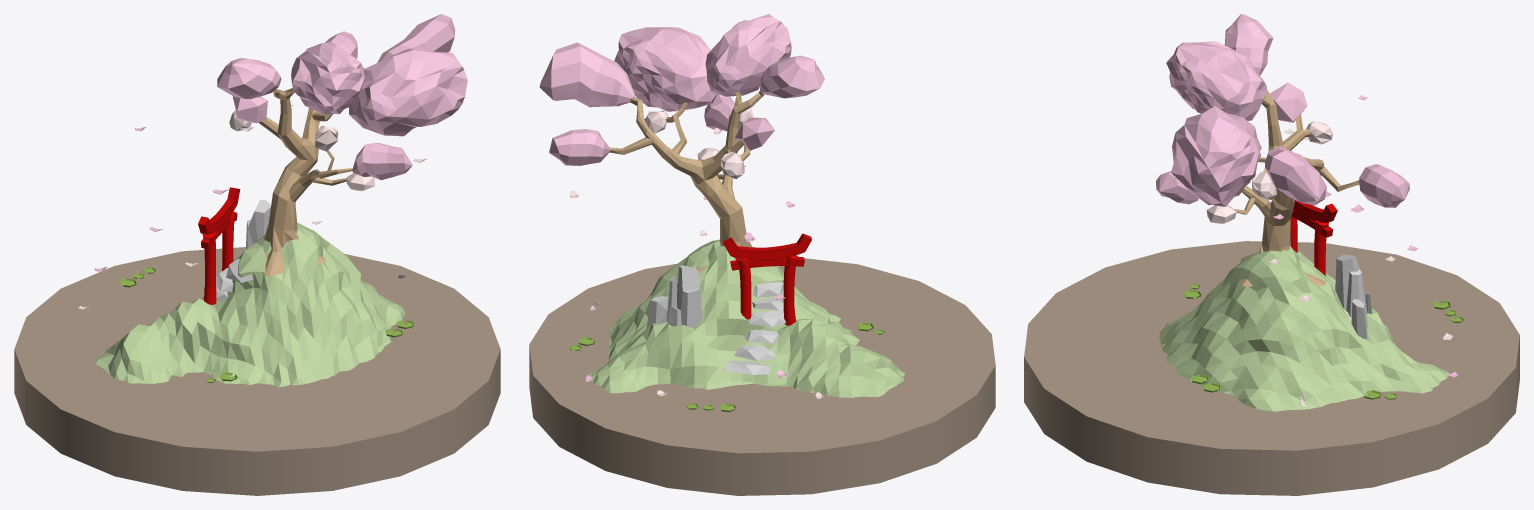
3 renders of one model, left to right at view 1: azimuth 30°, elevation 25°; view 2: azimuth 150°, elevation 25°; view 3: azimuth 270°, elevation 25°, orthographic. The views are drawn at different scales.
Visible parts, largest first — view 1: LowPolyWaterv2, Terrain_Mountain_Grass_01, Cube, Vegetation_Modular_Tree_Foliage_Clump_Large_05__1_, Vegetation_Tree_Trunk_05, Vegetation_Modular_Tree_Foliage_Clump_Large_05, Prop_Archway_Timber_Asian_Elven_01, Vegetation_Modular_Tree_Foliage_Clump_Small_11, Vegetation_Modular_Tree_Foliage_Clump_Small_12, Vegetation_Modular_Tree_Foliage_Clump_Large_04, Rock_Large_17, Vegetation_Modular_Tree_Foliage_Clump_Small_06; view 2: LowPolyWaterv2, Terrain_Mountain_Grass_01, Cube, Vegetation_Modular_Tree_Foliage_Clump_Large_05__1_, Vegetation_Tree_Trunk_05, Vegetation_Modular_Tree_Foliage_Clump_Large_05, Vegetation_Modular_Tree_Foliage_Clump_Large_04, Prop_Archway_Timber_Asian_Elven_01, Vegetation_Modular_Tree_Foliage_Clump_Small_11, Rock_Large_17, Vegetation_Modular_Tree_Foliage_Clump_Large_03, Vegetation_Modular_Tree_Foliage_Clump_Small_06 (+6 smaller); view 3: LowPolyWaterv2, Terrain_Mountain_Grass_01, Cube, Vegetation_Modular_Tree_Foliage_Clump_Large_05__1_, Vegetation_Modular_Tree_Foliage_Clump_Large_05, Vegetation_Tree_Trunk_05, Vegetation_Modular_Tree_Foliage_Clump_Large_04, Vegetation_Modular_Tree_Foliage_Clump_Small_11, Prop_Archway_Timber_Asian_Elven_01, Vegetation_Modular_Tree_Foliage_Clump_Large_03, Rock_Large_17, Vegetation_Modular_Tree_Foliage_Clump_Small_06 (+1 smaller).
Boxes of the visible parts, left/top/right/bottom form: LowPolyWaterv2: left=14, top=247, right=500, bottom=468; Terrain_Mountain_Grass_01: left=94, top=223, right=405, bottom=387; Cube: left=14, top=360, right=500, bottom=495; Vegetation_Modular_Tree_Foliage_Clump_Large_05__1_: left=349, top=47, right=467, bottom=136; Vegetation_Tree_Trunk_05: left=258, top=68, right=364, bottom=276; Vegetation_Modular_Tree_Foliage_Clump_Large_05: left=291, top=42, right=365, bottom=114; Prop_Archway_Timber_Asian_Elven_01: left=198, top=187, right=240, bottom=304; Vegetation_Modular_Tree_Foliage_Clump_Small_11: left=217, top=58, right=281, bottom=99; Vegetation_Modular_Tree_Foliage_Clump_Small_12: left=352, top=142, right=412, bottom=180; Vegetation_Modular_Tree_Foliage_Clump_Large_04: left=377, top=14, right=455, bottom=62; Rock_Large_17: left=246, top=199, right=271, bottom=249; Vegetation_Modular_Tree_Foliage_Clump_Small_06: left=233, top=96, right=267, bottom=123; LowPolyWaterv2: left=529, top=258, right=995, bottom=469; Terrain_Mountain_Grass_01: left=586, top=239, right=904, bottom=397; Cube: left=529, top=357, right=995, bottom=495; Vegetation_Modular_Tree_Foliage_Clump_Large_05__1_: left=614, top=27, right=717, bottom=111; Vegetation_Tree_Trunk_05: left=609, top=91, right=778, bottom=273; Vegetation_Modular_Tree_Foliage_Clump_Large_05: left=705, top=14, right=791, bottom=96; Vegetation_Modular_Tree_Foliage_Clump_Large_04: left=539, top=42, right=634, bottom=107; Prop_Archway_Timber_Asian_Elven_01: left=723, top=233, right=811, bottom=325; Vegetation_Modular_Tree_Foliage_Clump_Small_11: left=760, top=55, right=824, bottom=98; Rock_Large_17: left=666, top=265, right=702, bottom=327; Vegetation_Modular_Tree_Foliage_Clump_Large_03: left=549, top=129, right=609, bottom=166; Vegetation_Modular_Tree_Foliage_Clump_Small_06: left=735, top=117, right=774, bottom=150; LowPolyWaterv2: left=1024, top=241, right=1519, bottom=467; Terrain_Mountain_Grass_01: left=1159, top=246, right=1449, bottom=411; Cube: left=1024, top=353, right=1519, bottom=495; Vegetation_Modular_Tree_Foliage_Clump_Large_05__1_: left=1171, top=106, right=1261, bottom=206; Vegetation_Modular_Tree_Foliage_Clump_Large_05: left=1166, top=41, right=1266, bottom=120; Vegetation_Tree_Trunk_05: left=1234, top=90, right=1359, bottom=286; Vegetation_Modular_Tree_Foliage_Clump_Large_04: left=1265, top=147, right=1326, bottom=205; Vegetation_Modular_Tree_Foliage_Clump_Small_11: left=1224, top=14, right=1273, bottom=75; Prop_Archway_Timber_Asian_Elven_01: left=1290, top=200, right=1337, bottom=275; Vegetation_Modular_Tree_Foliage_Clump_Large_03: left=1358, top=164, right=1409, bottom=207; Rock_Large_17: left=1335, top=254, right=1371, bottom=317; Vegetation_Modular_Tree_Foliage_Clump_Small_06: left=1270, top=82, right=1307, bottom=122.
Size of the model in its own units: 1.05 by 0.86 by 1.05.
